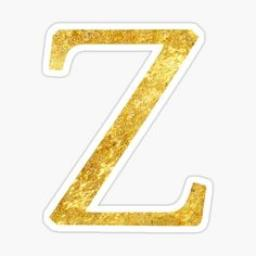z: (34, 12, 220, 240)
